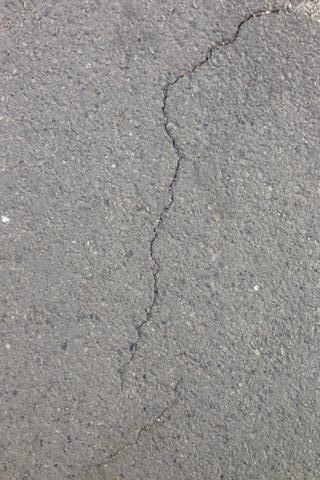A: (116, 7, 279, 390), (82, 381, 202, 465)
